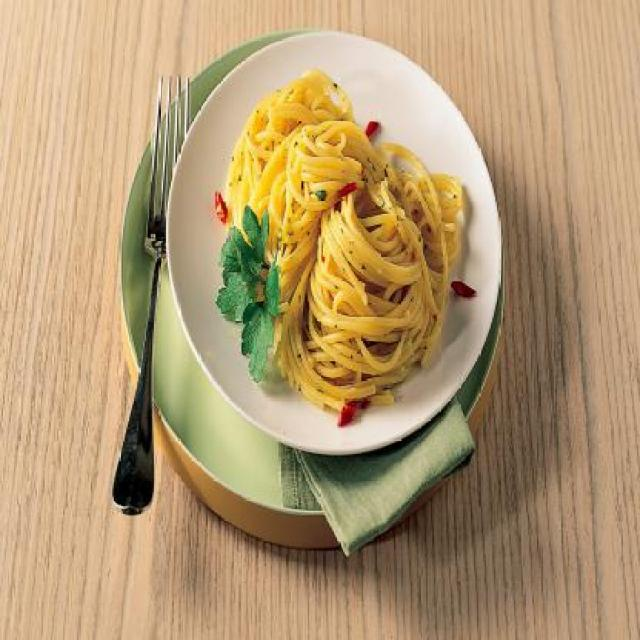Oil pasta: (178, 50, 540, 458)
